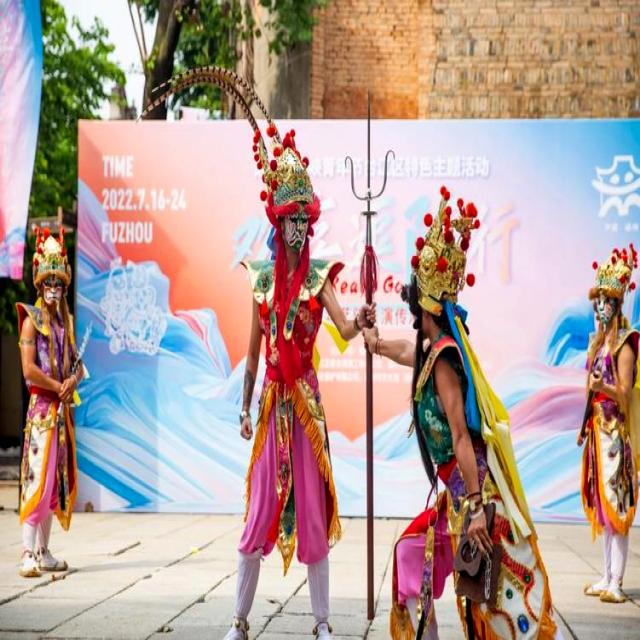Reeves-s Pheasant: (128, 61, 276, 132)
